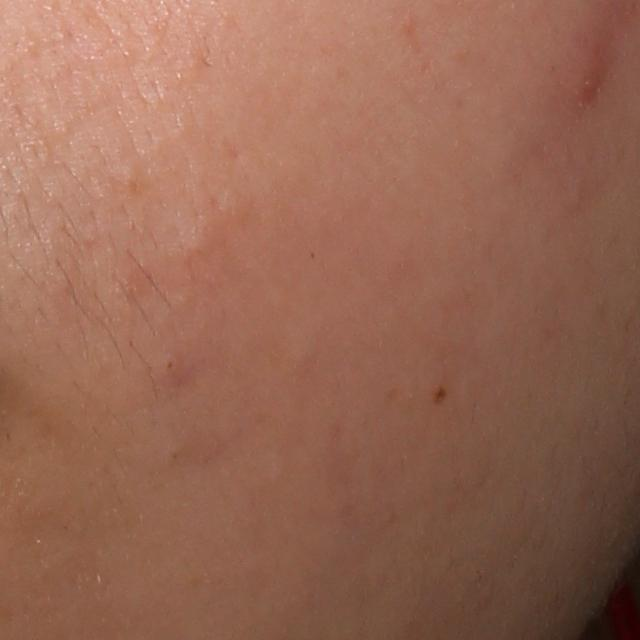comedo: (177, 223, 220, 262)
nevus: (427, 381, 451, 410)
